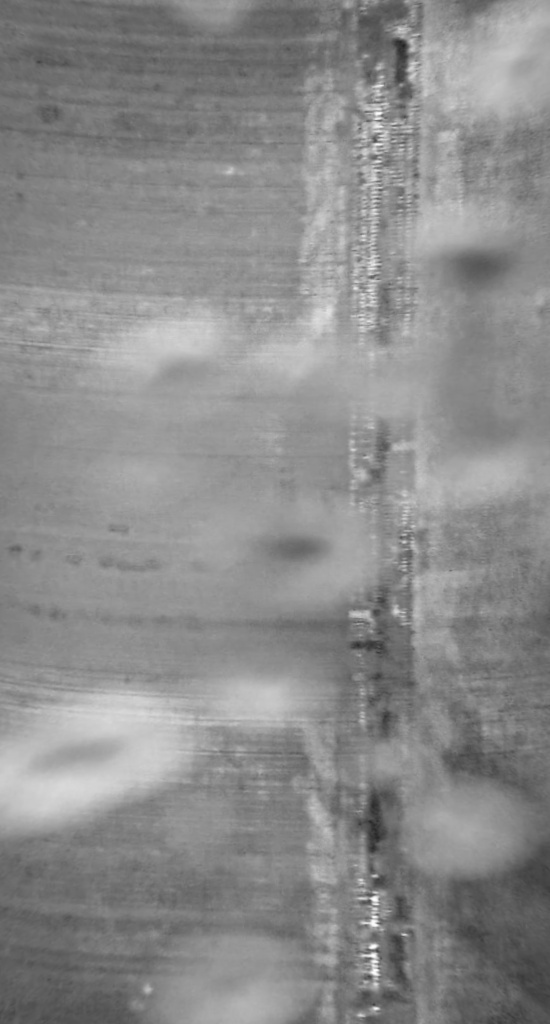splice: (331, 1, 428, 1021)
